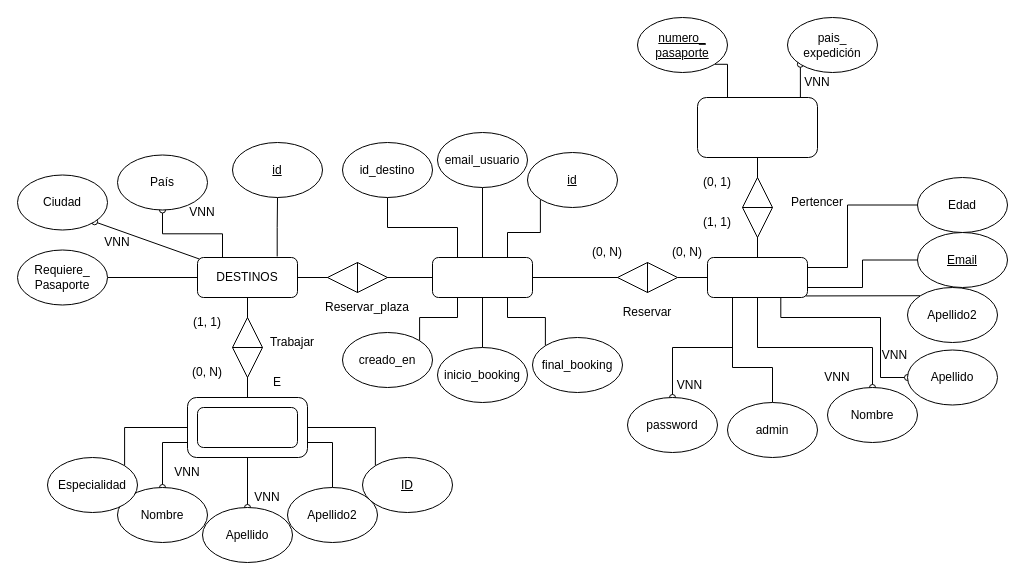
This 1025x580 diagram has some shape labels left out. The box of each missing label's shape, as (x1, y1, x2, y2) in pixels:
BOOKING: (432, 256, 532, 298)
GUIAS: (196, 406, 298, 448)
PASAPORTE: (696, 96, 818, 158)
USUARIOS: (706, 256, 808, 298)
